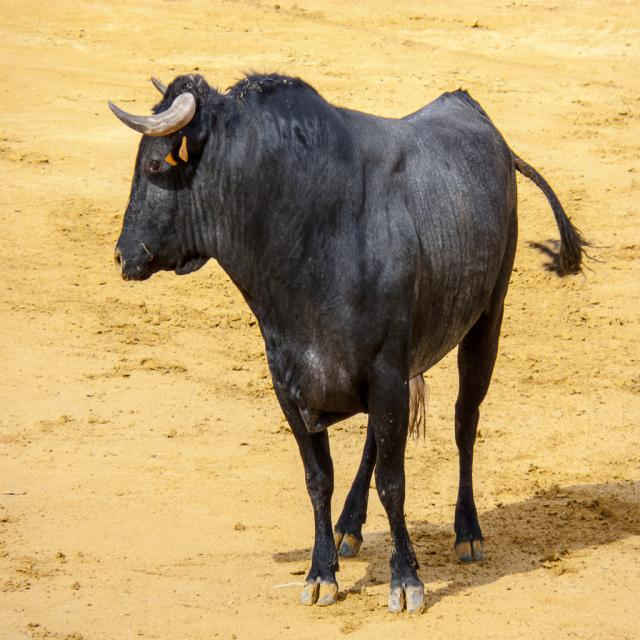Cattle: (108, 62, 614, 615)
